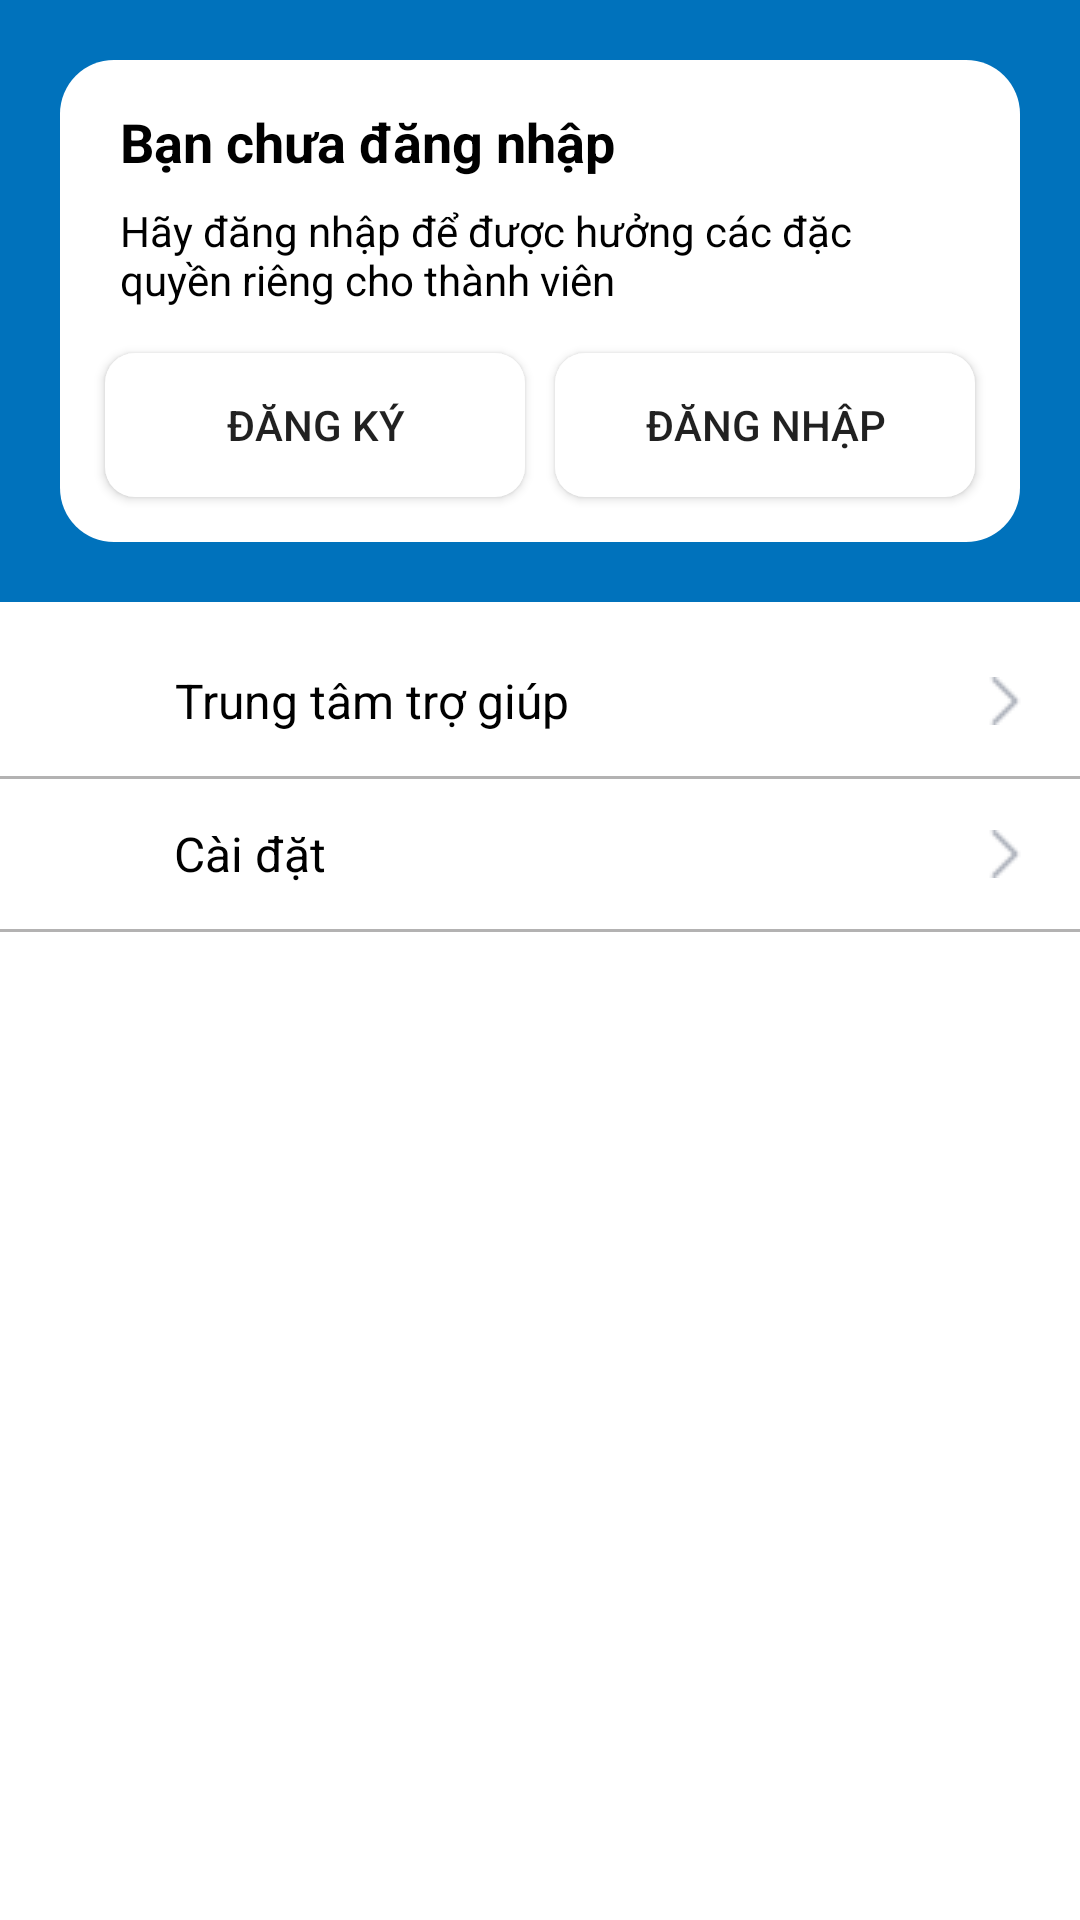

Named icons in this screenshot (1080px×1920px) and their centers, point (x, y):
next: point (1005, 701), point (1005, 854)
